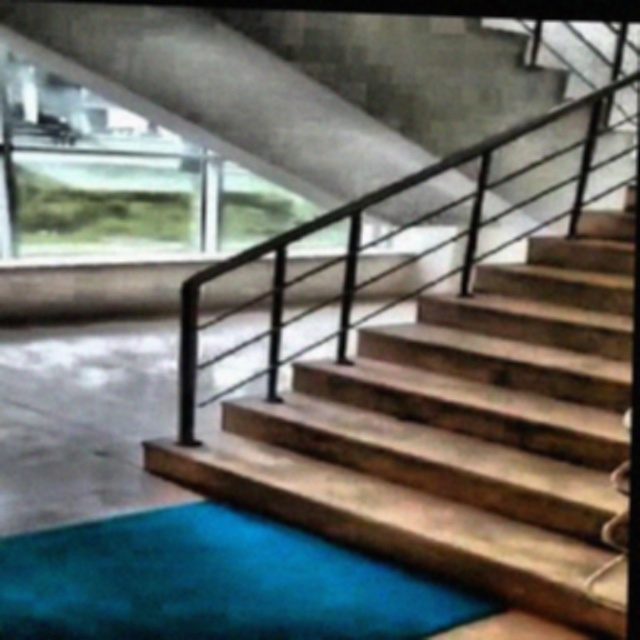stair: (130, 60, 639, 638)
